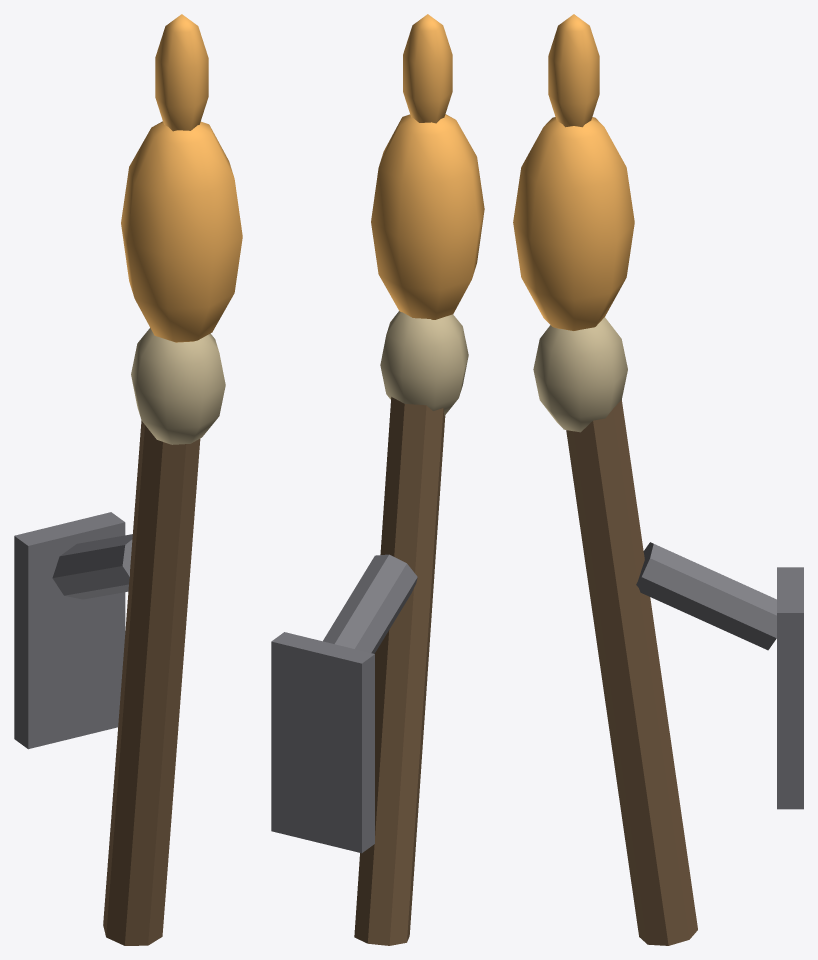
File: torch.glb
3 views of the same model, side by side, from view 1: azimuth 30°, elevation 25°; view 2: azimuth 150°, elevation 25°; view 3: azimuth 270°, elevation 25° (orthographic). The views are drawn at different scales.
Visible parts, largest first — view 1: shaft, flame, plate, wrap, flame_tip, ring; view 2: shaft, plate, flame, wrap, ring, flame_tip; view 3: shaft, flame, wrap, ring, plate, flame_tip.
Boxes of the visible parts, x1,y1,x2,y2 form: shaft: (103,420,200,945); flame: (121,121,242,342); plate: (14,512,125,749); wrap: (131,328,225,444); flame_tip: (155,14,208,131); ring: (52,534,132,599); shaft: (354,397,445,945); plate: (271,632,374,853); flame: (371,114,484,319); wrap: (380,311,468,415); ring: (323,554,417,653); flame_tip: (403,14,452,123); shaft: (566,400,697,945); flame: (513,117,634,330); wrap: (533,317,627,432); ring: (636,542,776,650); plate: (777,567,803,809); flame_tip: (548,14,599,127).
Size of the model in its own units: 0.09 by 0.7528 by 0.215.
